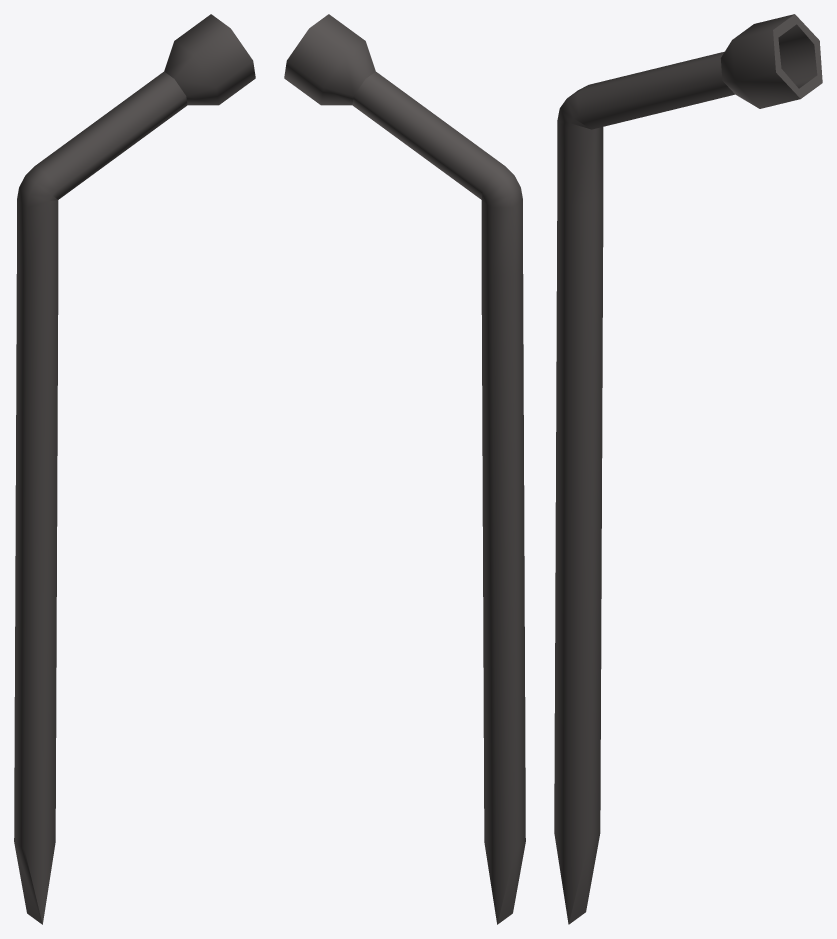
File: 546c8e36-6efe-404e-b1e2-a00e35717bc6.glb
3 renders of one model, left to right at view 1: azimuth 30°, elevation 25°; view 2: azimuth 150°, elevation 25°; view 3: azimuth 330°, elevation 25°, orthographic. The views are drawn at different scales.
Visible parts, largest first — view 1: TireIron; view 2: TireIron; view 3: TireIron.
Boxes of the visible parts, left/top/right/bottom form: TireIron: left=14, top=14, right=255, bottom=924; TireIron: left=284, top=14, right=525, bottom=924; TireIron: left=554, top=14, right=822, bottom=924.
Size of the model in its own units: 0.1671 by 0.6008 by 0.0504.
Materials: 1 (1 with a texture image).
